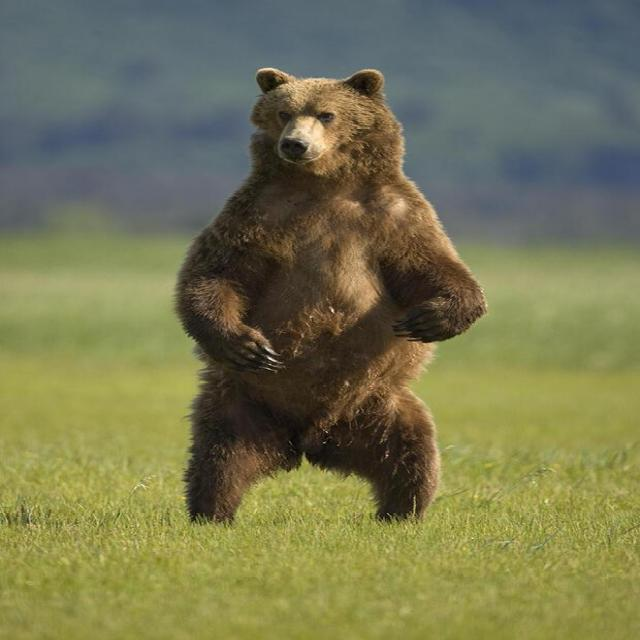Bear: (174, 68, 486, 528)
